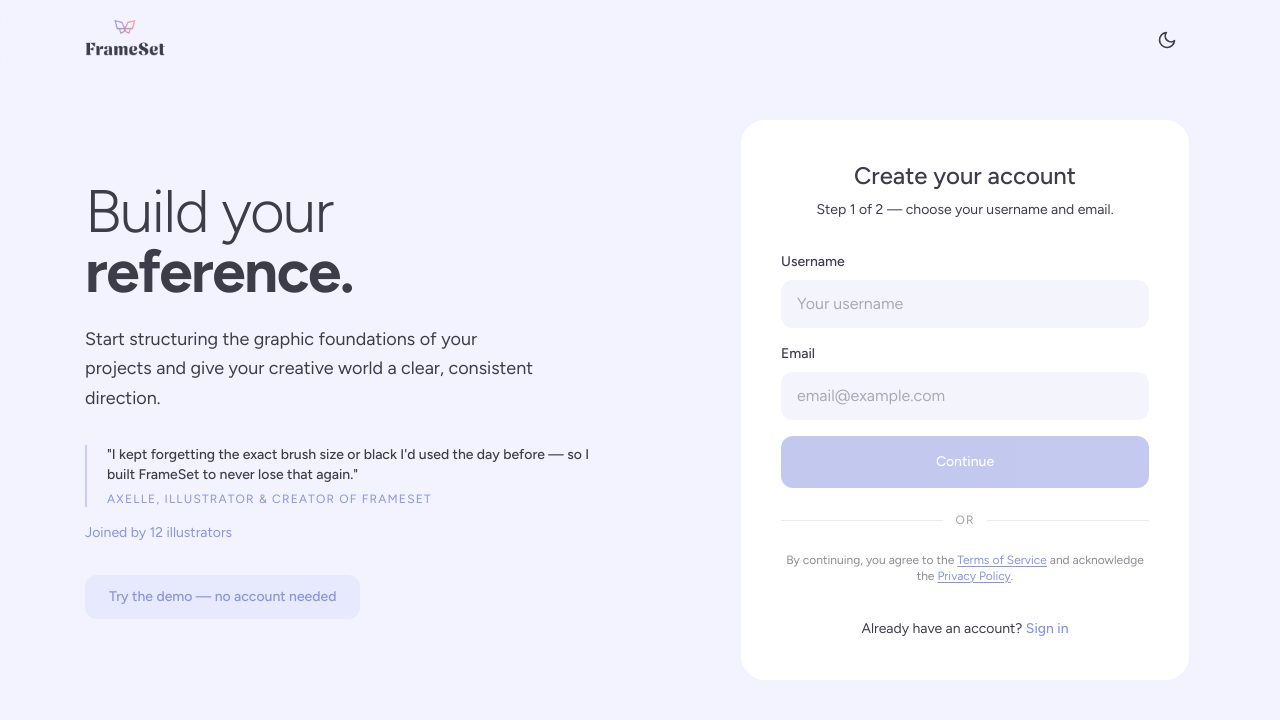
Test: Register › goes back from the password step without losing what was typed
The width and height of the screenshot is (1280, 720).
In the field labelled "Username": [965, 304] box 781,280 -> 1149,328, type "AxelleDev"
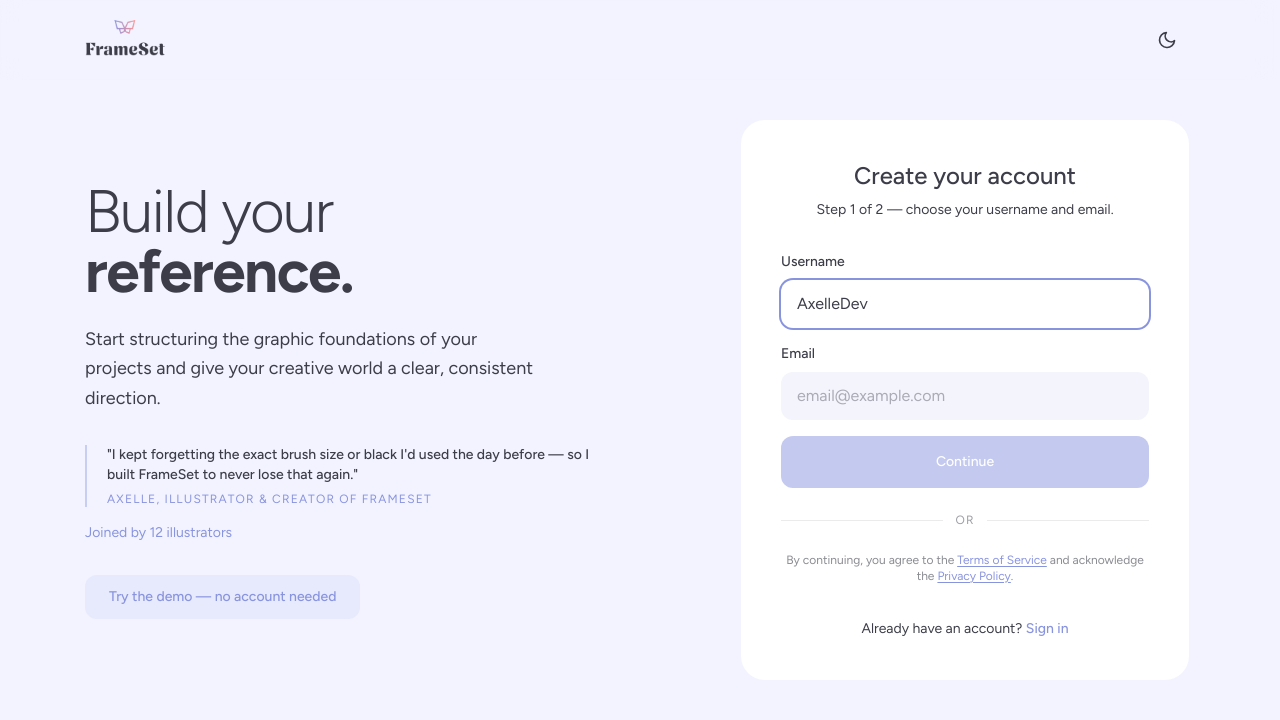
In the field with placeholder "email@example.com": [965, 396] box 781,372 -> 1149,420, type "axelle@example.com"
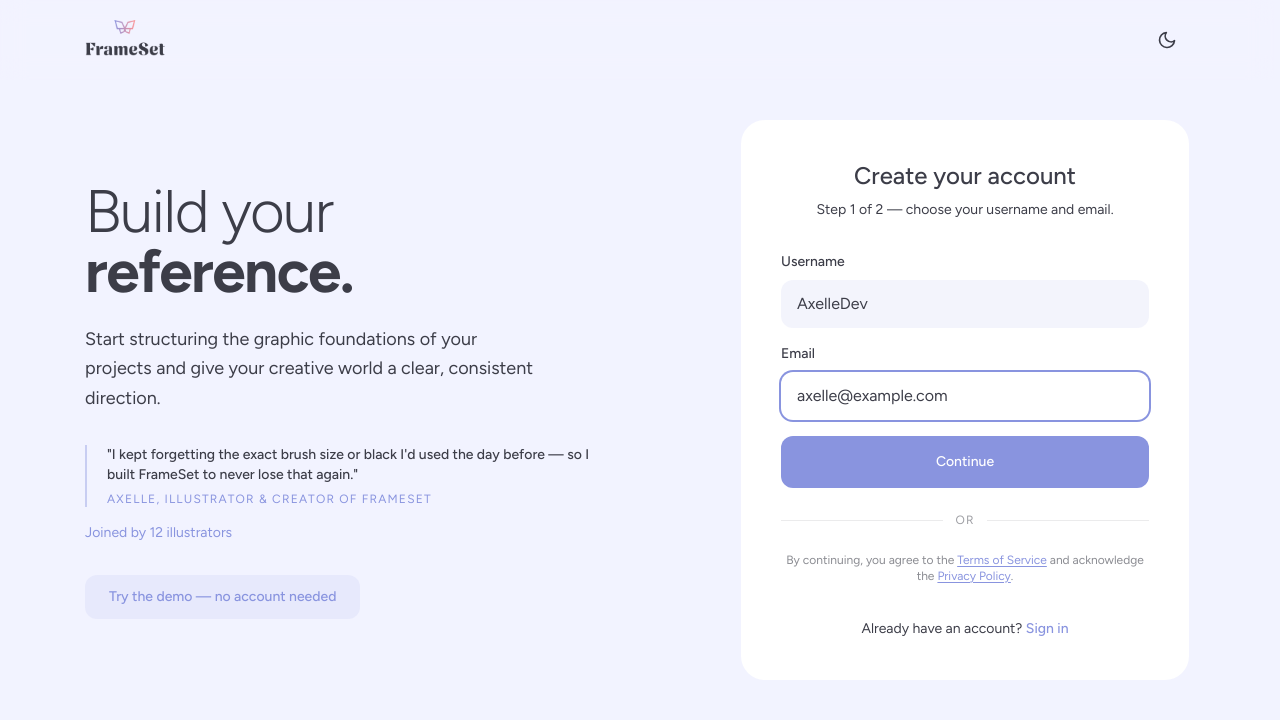
Click the button "Continue": [965, 462] box 781,436 -> 1149,488
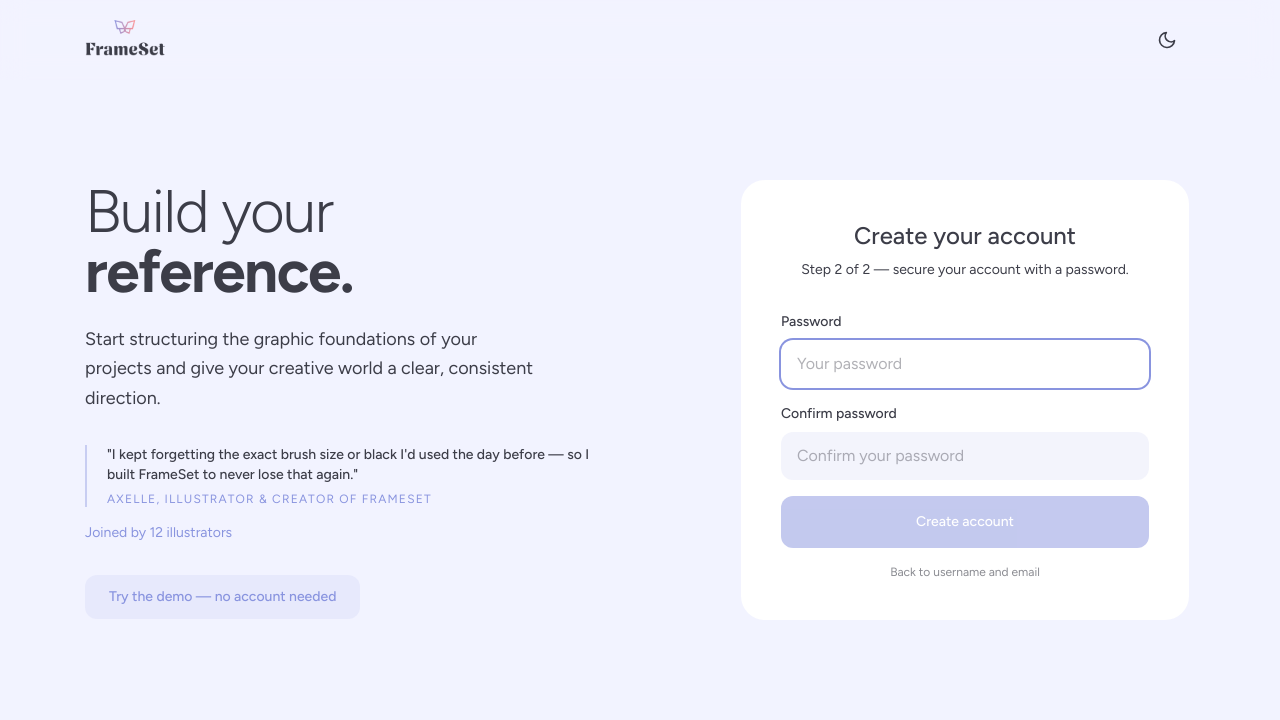
In the password field with placeholder "Your password": [965, 364] box 781,340 -> 1149,388, type "Pass1234"
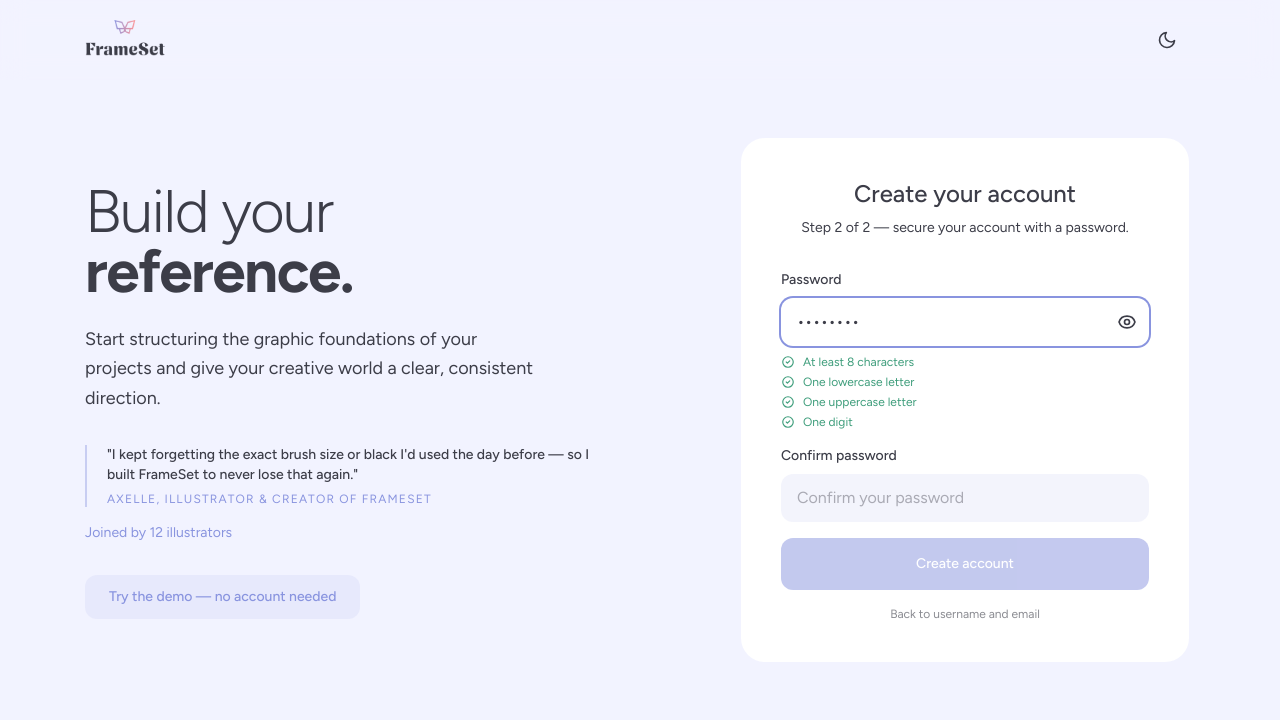
Click the button "Back to username and email": [965, 614] box 781,606 -> 1149,622
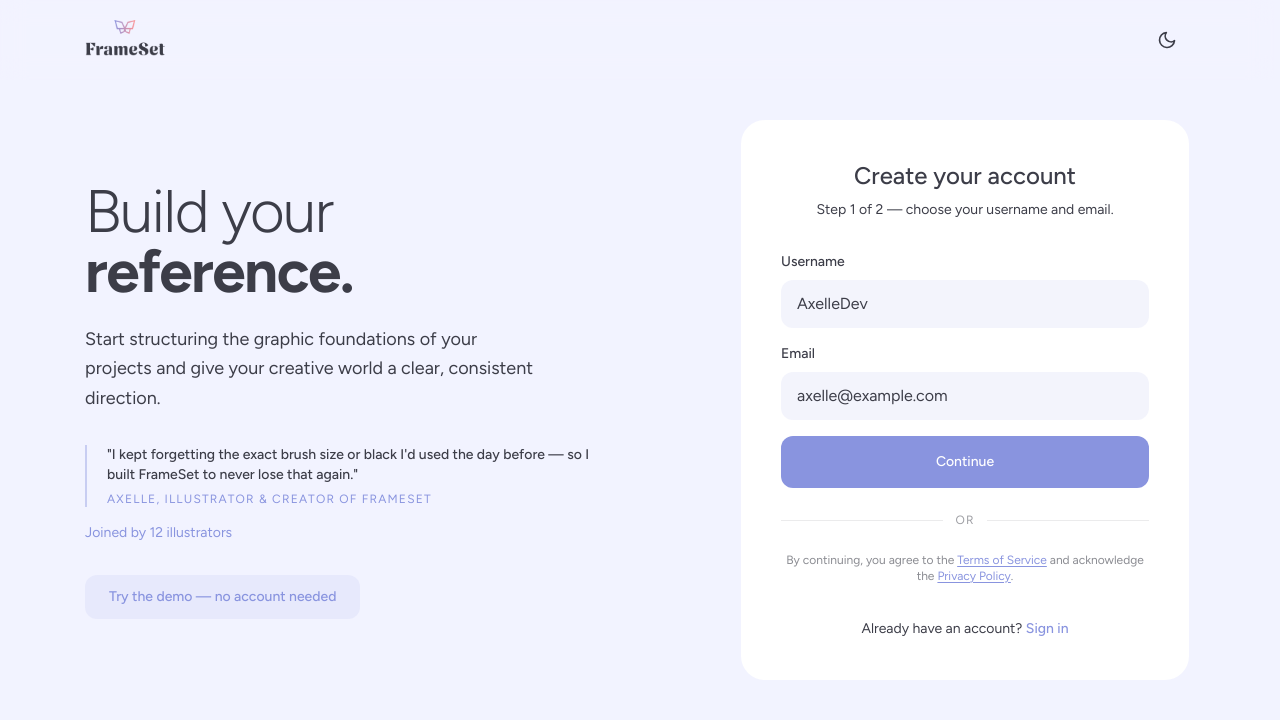
Result: the text "Step 1 of 2 — choose your username and email." is shown at 816,201 -> 1114,218
Result: the field labelled "Username" holds "AxelleDev" at 781,280 -> 1149,328
Result: the field with placeholder "email@example.com" holds "axelle@example.com" at 781,372 -> 1149,420
// And the password survives the round trip too.
Click the button "Continue": [965, 462] box 781,436 -> 1149,488
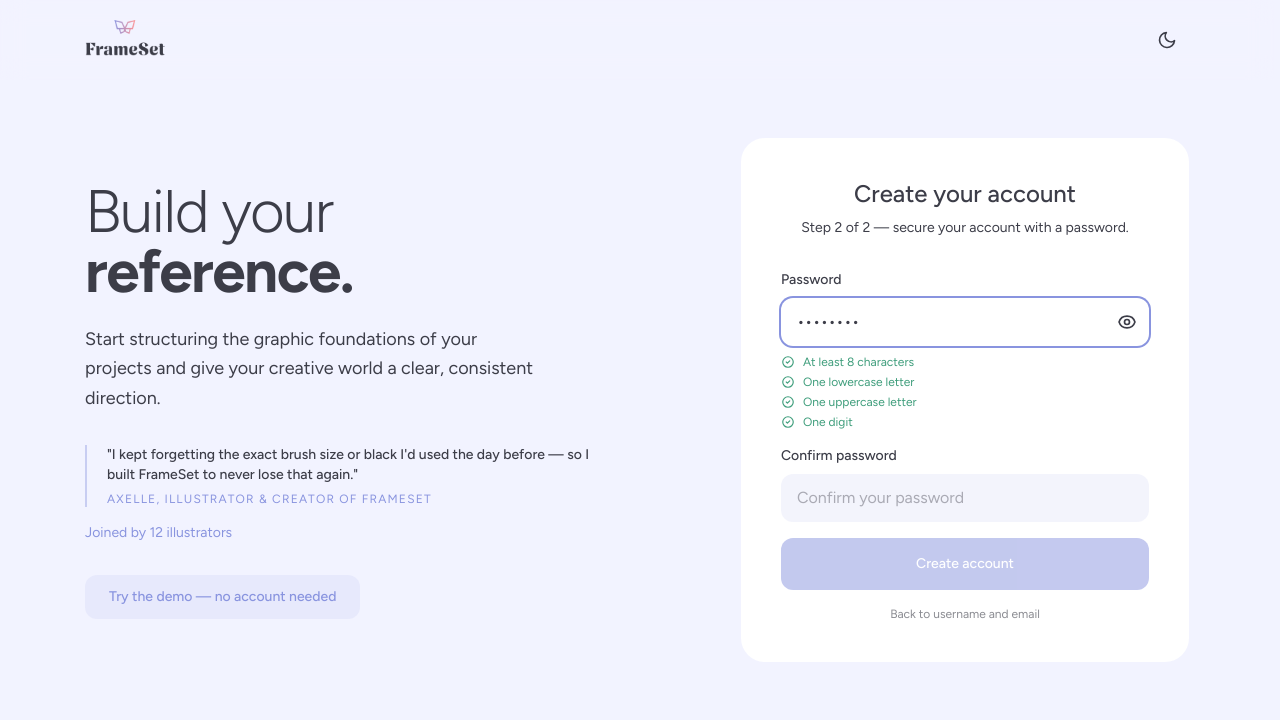
Result: the password field with placeholder "Your password" holds "Pass1234" at 781,298 -> 1149,346
